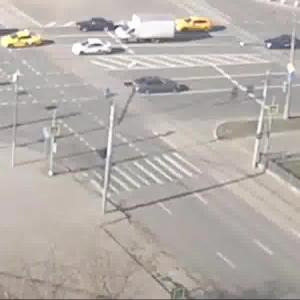car: (118, 12, 172, 45), (135, 80, 185, 96), (77, 17, 118, 36), (9, 30, 45, 50), (261, 33, 300, 51), (174, 18, 212, 34), (82, 42, 113, 57), (137, 82, 154, 95)
